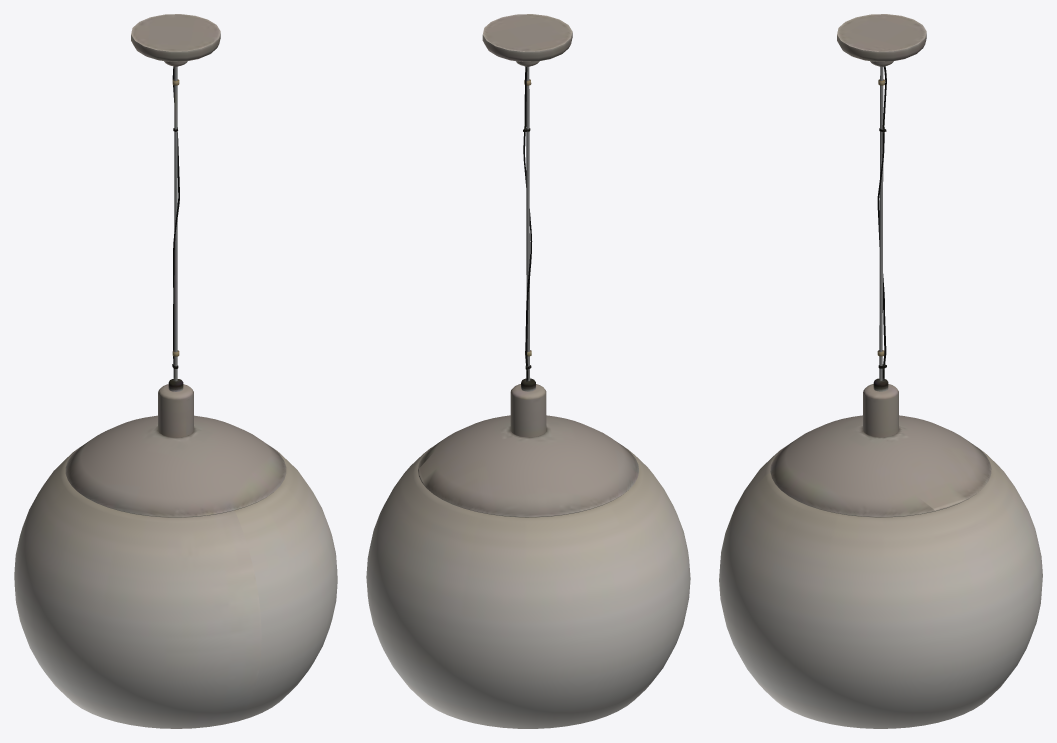
File: ceiling-lamp.glb
The picture shows the model from 3 angles, left to right: view 1: azimuth 30°, elevation 25°; view 2: azimuth 150°, elevation 25°; view 3: azimuth 270°, elevation 25°; orthographic projection.
Parts seen in each view (by area): view 1: modern_ceiling_lamp_01; view 2: modern_ceiling_lamp_01; view 3: modern_ceiling_lamp_01.
Boxes of the visible parts, x1=… form: modern_ceiling_lamp_01: x1=14, y1=14, x2=337, y2=728; modern_ceiling_lamp_01: x1=366, y1=14, x2=690, y2=728; modern_ceiling_lamp_01: x1=719, y1=14, x2=1042, y2=728.
Size of the model in its own units: 0.4316 by 0.9512 by 0.4316.
Materials: 2 (2 with a texture image).
